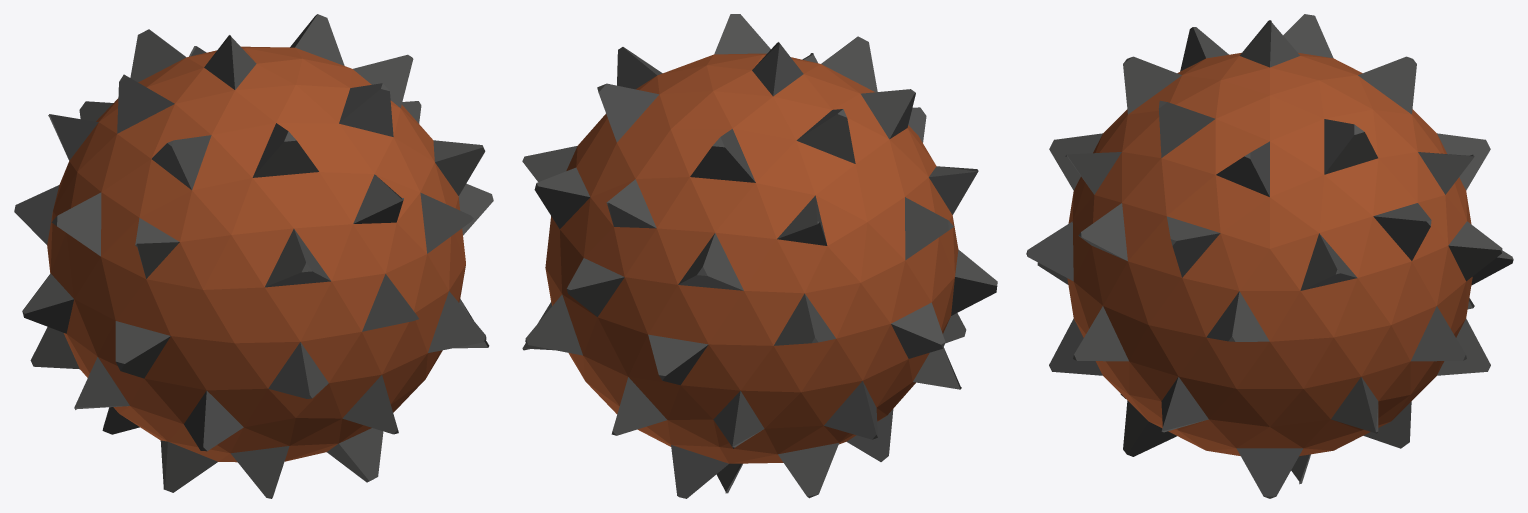
Rendered from Ball.fbx.
3 renders of one model, left to right at view 1: azimuth 30°, elevation 25°; view 2: azimuth 150°, elevation 25°; view 3: azimuth 270°, elevation 25°, orthographic. The views are drawn at different scales.
Parts seen in each view (by area): view 1: Icosphere; view 2: Icosphere; view 3: Icosphere.
Boxes of the visible parts, x1=… form: Icosphere: x1=14, y1=14, x2=493, y2=498; Icosphere: x1=522, y1=14, x2=997, y2=498; Icosphere: x1=1026, y1=14, x2=1513, y2=498.
Bounding box in the file's own units: 236 × 238 × 236.
